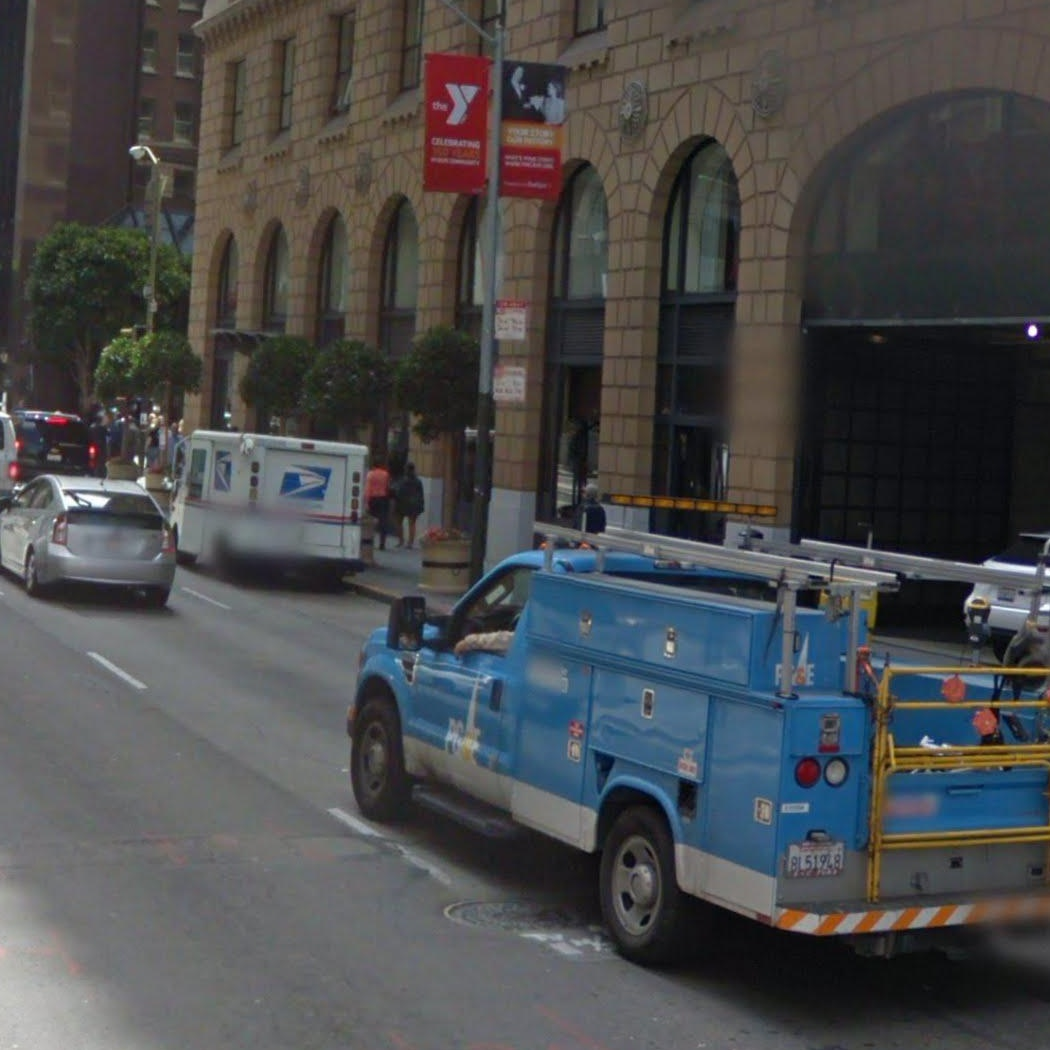No Parking: (494, 299, 528, 341), (492, 364, 528, 403)
